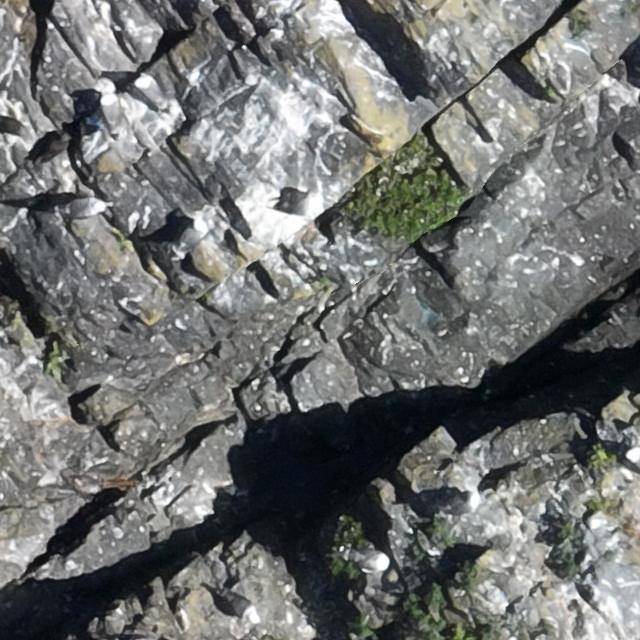umineko: (214, 590, 262, 628), (134, 75, 174, 113), (438, 486, 481, 517), (100, 91, 127, 136), (341, 548, 390, 572), (59, 197, 112, 219), (275, 193, 322, 216), (177, 223, 205, 251)
